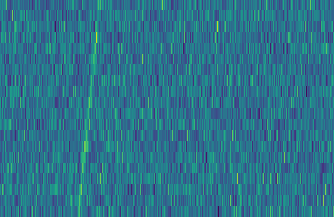signal: (71, 0, 102, 217)
